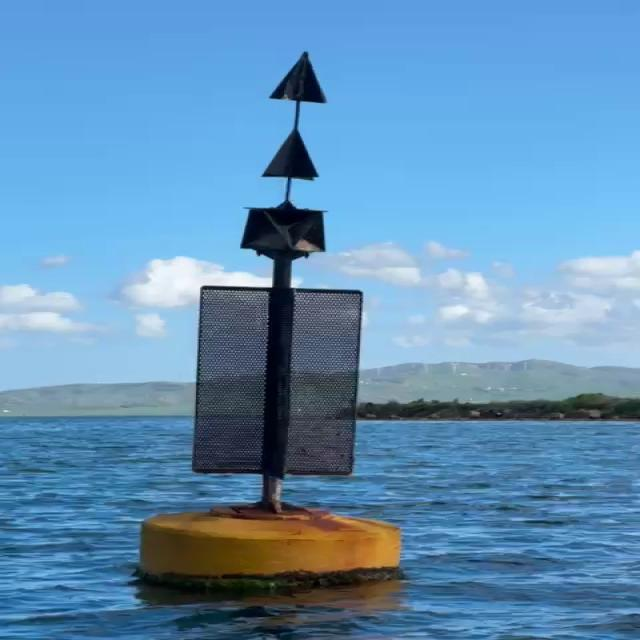marque: (138, 47, 406, 588)
